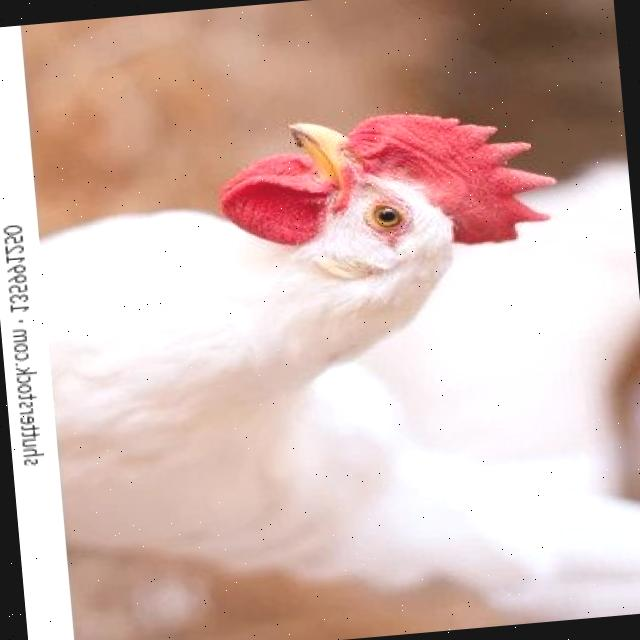Healthy: (34, 97, 584, 520)
